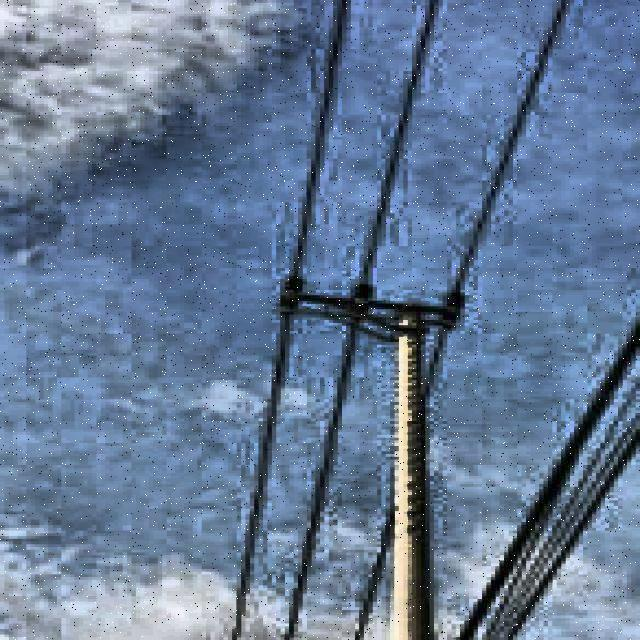crossarm: (295, 296, 459, 342)
pole: (389, 324, 441, 640)
wire: (353, 0, 577, 640), (278, 0, 441, 640), (222, 0, 354, 640), (458, 319, 640, 639), (484, 377, 640, 636), (504, 435, 640, 639)
